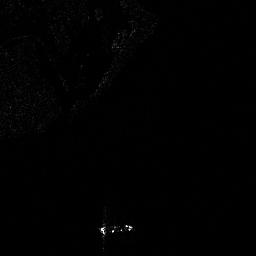ship: (96, 220, 135, 236)
